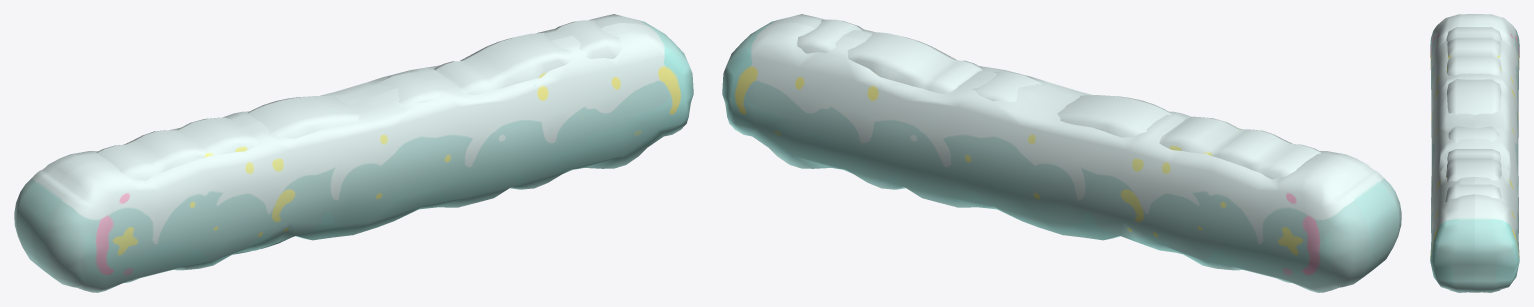
Rendered from Mesh_Adventure_Catch_Cloud_5_SM.fbx.
3 views of the same model, side by side, from view 1: azimuth 30°, elevation 25°; view 2: azimuth 150°, elevation 25°; view 3: azimuth 270°, elevation 25° (orthographic). The views are drawn at different scales.
Visible parts, largest first — view 1: Mesh_Adventure_Catch_Cloud_4, Mesh_Adventure_Catch_Cloud_3; view 2: Mesh_Adventure_Catch_Cloud_4, Mesh_Adventure_Catch_Cloud_3; view 3: Mesh_Adventure_Catch_Cloud_4, Mesh_Adventure_Catch_Cloud_3.
Boxes of the visible parts, bbox=[...] form: Mesh_Adventure_Catch_Cloud_4: bbox=[14, 14, 693, 292]; Mesh_Adventure_Catch_Cloud_3: bbox=[96, 20, 621, 254]; Mesh_Adventure_Catch_Cloud_4: bbox=[722, 14, 1401, 292]; Mesh_Adventure_Catch_Cloud_3: bbox=[797, 19, 1320, 179]; Mesh_Adventure_Catch_Cloud_4: bbox=[1430, 14, 1519, 292]; Mesh_Adventure_Catch_Cloud_3: bbox=[1445, 27, 1501, 202].
Size of the model in its own units: 297 by 60.17 by 48.63.
